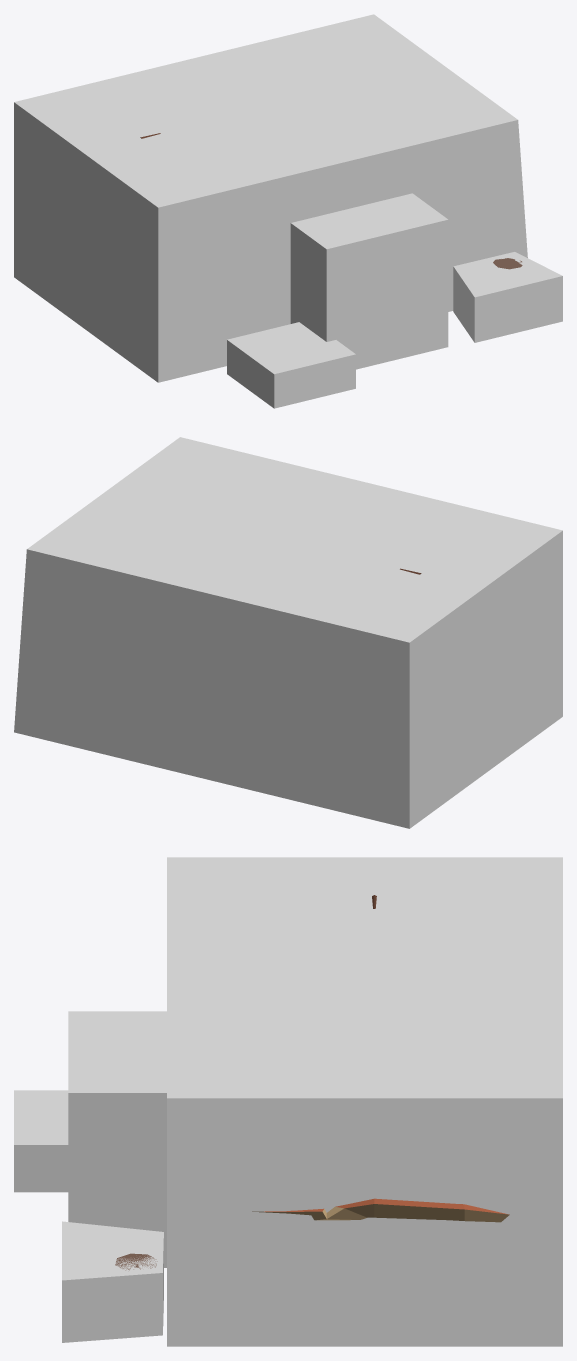
Rendered from WINERY.glb.
3 renders of one model, top to bottom at view 1: azimuth 30°, elevation 25°; view 2: azimuth 150°, elevation 25°; view 3: azimuth 270°, elevation 25°, orthographic. The views are drawn at different scales.
Visible parts, largest first — view 1: Cube.037, Cube.031, Cube.030, Cube.028; view 2: Cube.037; view 3: Cube.037, Cube.031, Cube.028, Cube.030, Cube.001.
Boxes of the visible parts, left/top/right/bottom form: Cube.037: left=14, top=14, right=527, bottom=382; Cube.031: left=290, top=193, right=448, bottom=369; Cube.030: left=227, top=322, right=355, bottom=408; Cube.028: left=453, top=252, right=562, bottom=342; Cube.037: left=14, top=437, right=562, bottom=828; Cube.037: left=167, top=857, right=562, bottom=1346; Cube.031: left=68, top=1011, right=166, bottom=1267; Cube.028: left=62, top=1221, right=163, bottom=1342; Cube.030: left=14, top=1090, right=68, bottom=1192; Cube.001: left=252, top=1198, right=509, bottom=1222.
Size of the model in its own units: 6.13 by 2.76 by 5.69.
